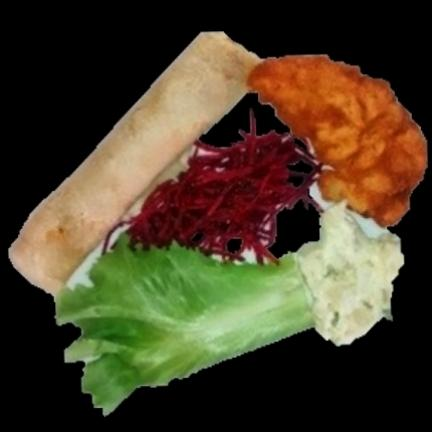beet: (127, 112, 317, 263)
chicken: (250, 56, 427, 226)
salad: (56, 235, 311, 415)
